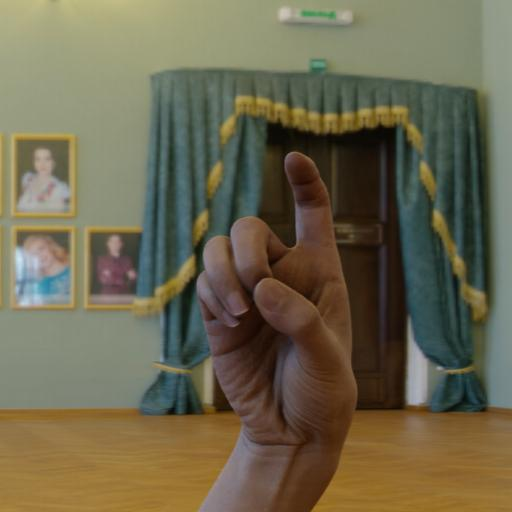X: (174, 132, 378, 468)
